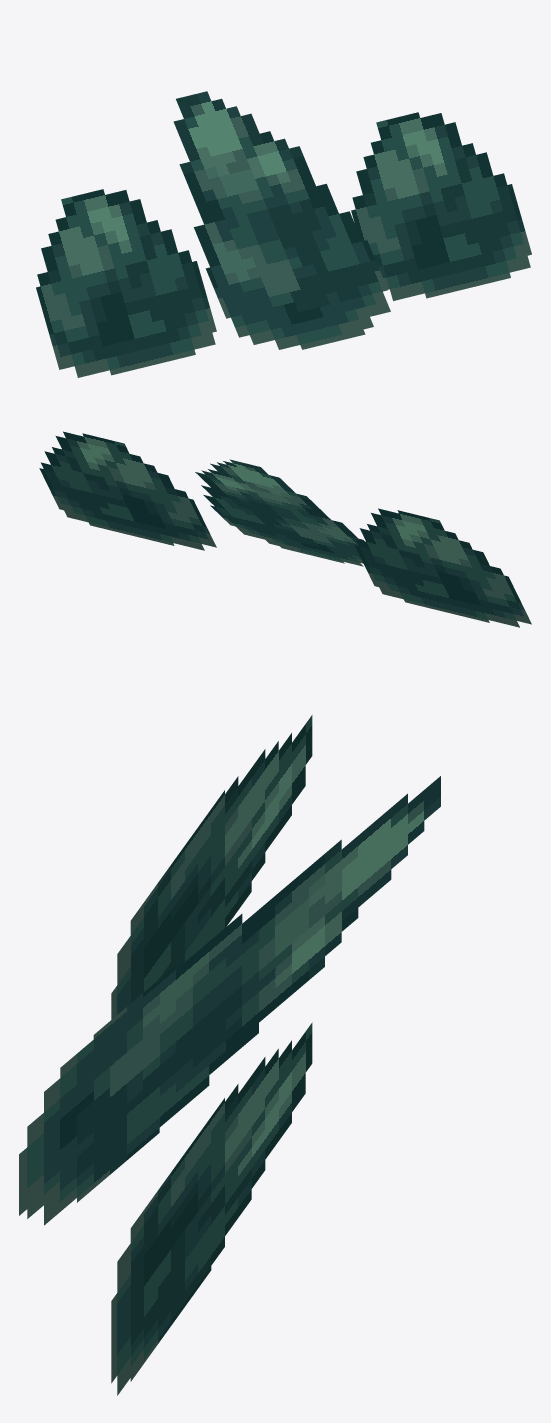
3 renders of one model, top to bottom at view 1: azimuth 30°, elevation 25°; view 2: azimuth 150°, elevation 25°; view 3: azimuth 270°, elevation 25°, orthographic. The views are drawn at different scales.
Size of the model in its own units: 3 by 1.33 by 1.41.
1 material, 1 textured.
